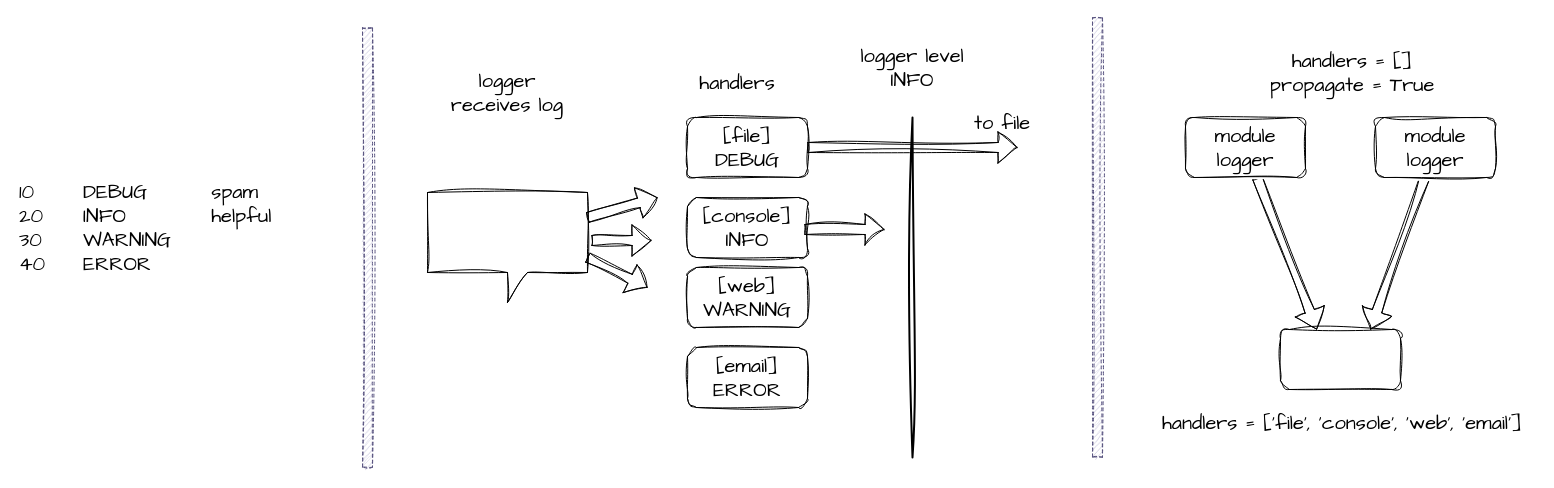
This 1554x488 diagram has some shape labels left out. Each missing label, with the centre of its shape:
msg level: INFO: [507,247]
root logger: [1340,359]
